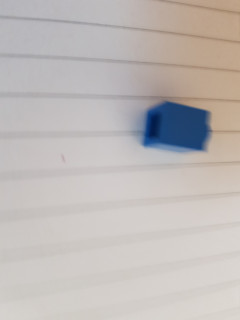1x1 blue: (140, 98, 214, 154)
